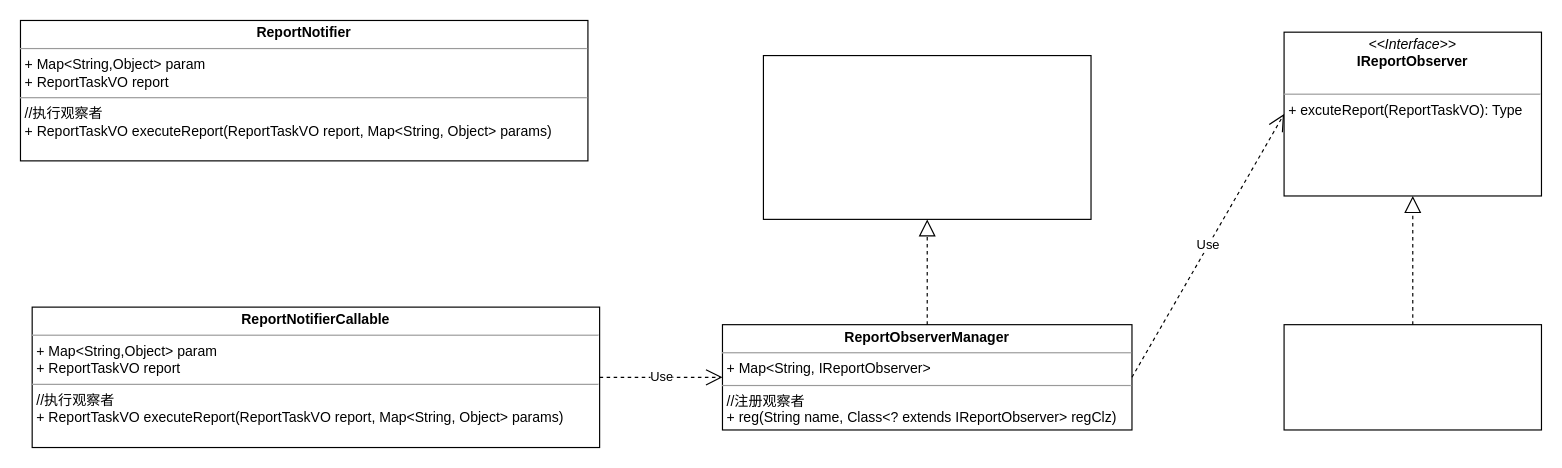
The diagram is 1562 pixels wide and 468 high, and some of its shapes have lost their labels. The centre of each missing label's shape, as x and y in pixels:
"<<Interface>> IRegeContaine + reg(String var1, Class<? extends T> var2)" belongs at point 926,136.
"SimpleMarkReportObserver + excuteReport(ReportTaskVO): Type" belongs at point 1412,377.
